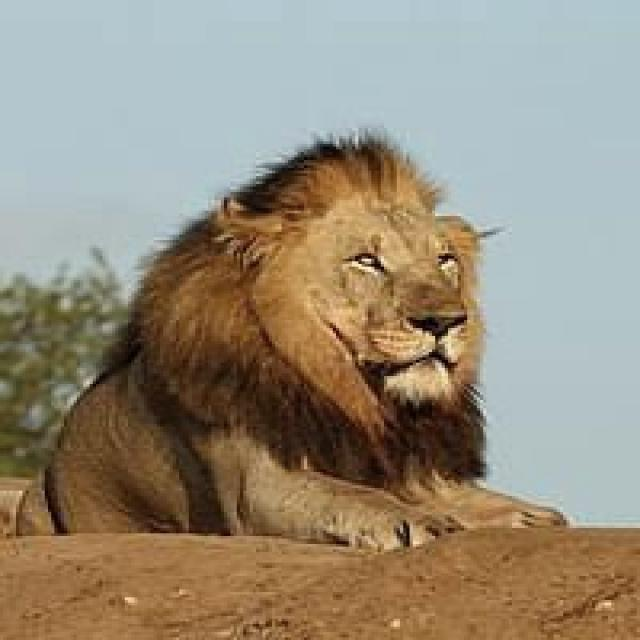lion: (19, 133, 563, 549)
